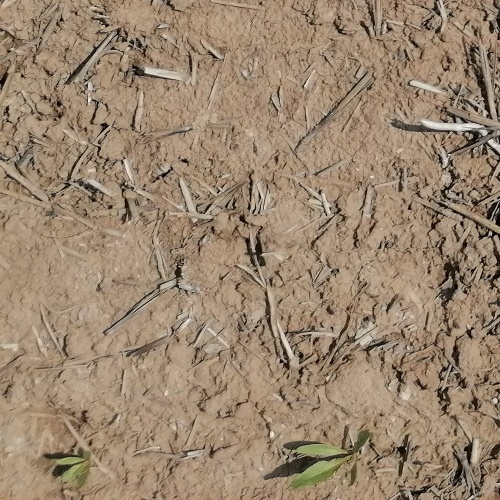beet: (293, 430, 373, 491), (56, 446, 95, 486)
